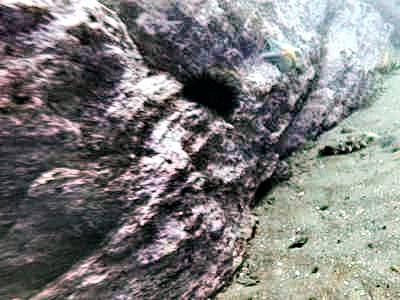urchin: (182, 70, 239, 122)
